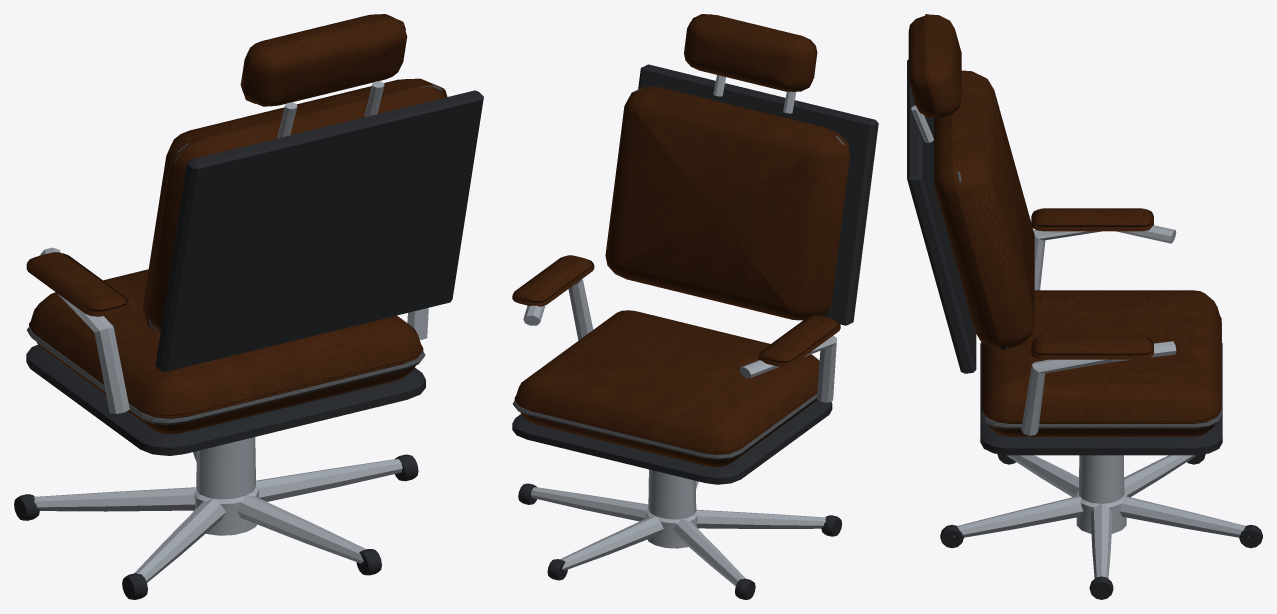
File: executive-chair-brown.glb
3 renders of one model, left to right at view 1: azimuth 30°, elevation 25°; view 2: azimuth 150°, elevation 25°; view 3: azimuth 270°, elevation 25°, orthographic. The views are drawn at different scales.
Visible parts, largest first — view 1: executive-chair_1, executive-chair_2, executive-chair_0, executive-chair_3; view 2: executive-chair_2, executive-chair_1, executive-chair_0, executive-chair_3; view 3: executive-chair_2, executive-chair_0, executive-chair_1, executive-chair_3.
Boxes of the visible parts, left/top/right/bottom form: executive-chair_1: left=14, top=90, right=483, bottom=599; executive-chair_2: left=26, top=14, right=447, bottom=434; executive-chair_0: left=33, top=81, right=428, bottom=582; executive-chair_3: left=27, top=84, right=443, bottom=424; executive-chair_2: left=512, top=14, right=850, bottom=467; executive-chair_1: left=512, top=64, right=878, bottom=599; executive-chair_0: left=523, top=75, right=836, bottom=586; executive-chair_3: left=513, top=88, right=844, bottom=459; executive-chair_2: left=908, top=14, right=1221, bottom=436; executive-chair_0: left=911, top=105, right=1248, bottom=578; executive-chair_1: left=907, top=59, right=1262, bottom=599; executive-chair_3: left=957, top=171, right=1221, bottom=428.
Bounding box in the file's own units: 0.8 × 1.2 × 0.8001.
4 materials, 1 textured.
